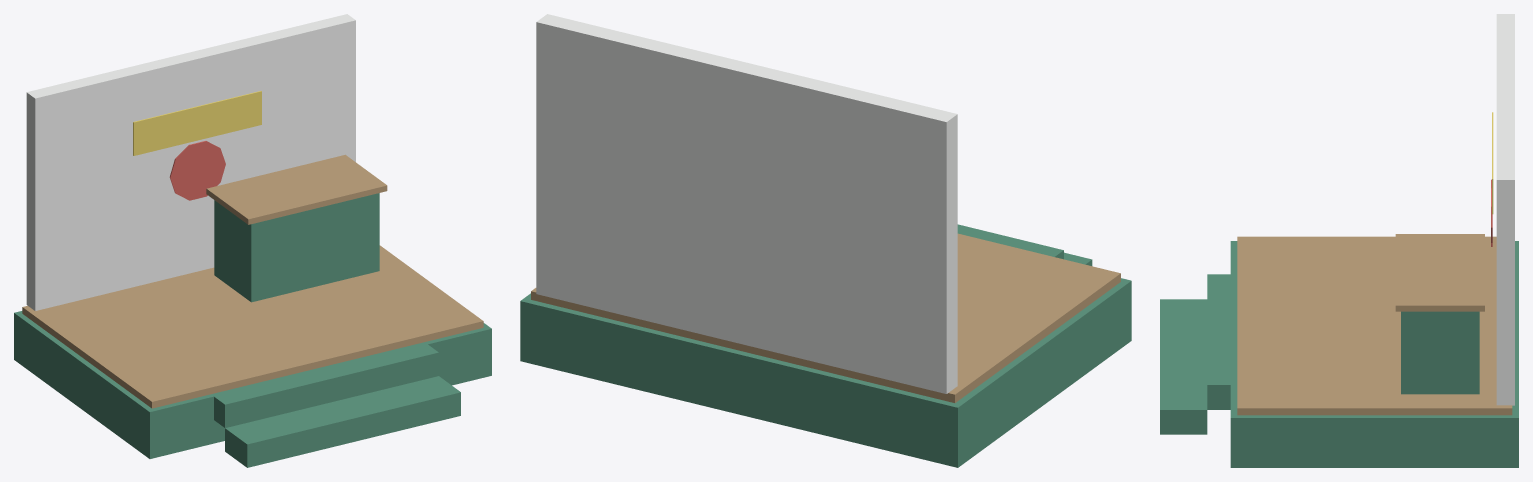
Rendered from racecourse-and-parade-ring-presentation-dais-694759ca__38634.glb.
The picture shows the model from 3 angles, left to right: view 1: azimuth 30°, elevation 25°; view 2: azimuth 150°, elevation 25°; view 3: azimuth 270°, elevation 25°; orthographic projection. The views are drawn at different scales.
Visible parts, largest first — view 1: presentation-dais; view 2: presentation-dais; view 3: presentation-dais.
Part boxes in pixels (bbox=[...]): presentation-dais: bbox=[14, 14, 491, 467]; presentation-dais: bbox=[520, 14, 1131, 467]; presentation-dais: bbox=[1160, 14, 1518, 467].
Size of the model in its own units: 3.2 by 2.38 by 2.74.
